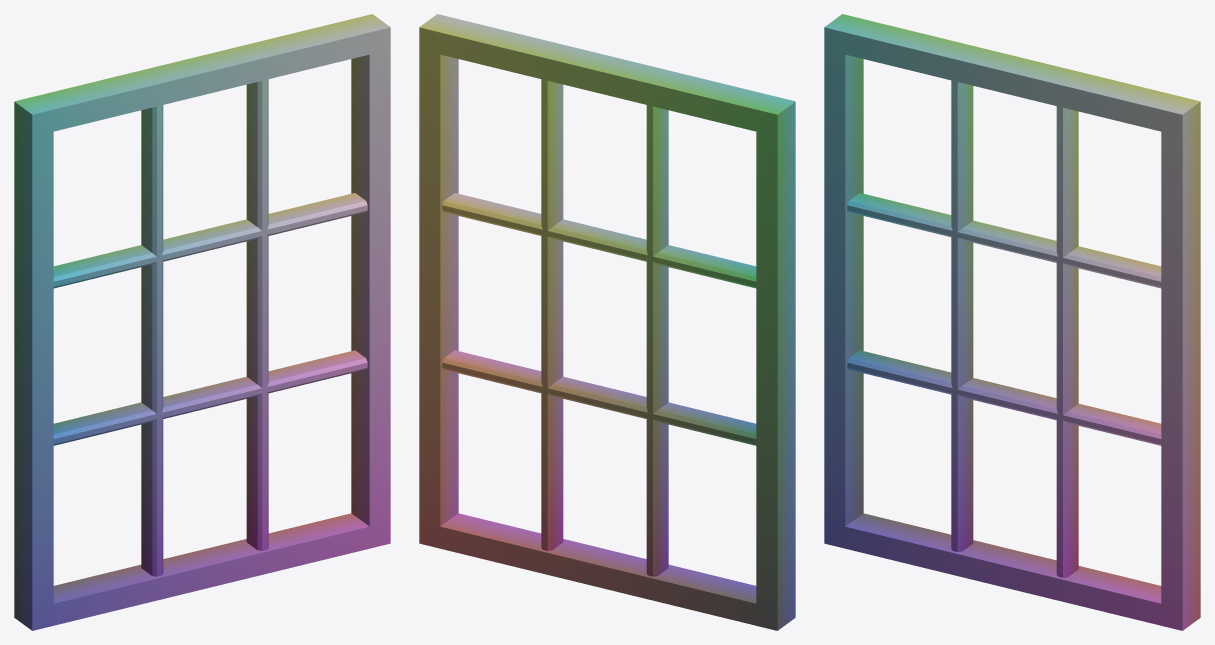
File: koshidaka_PREBAKE.glb
3 renders of one model, left to right at view 1: azimuth 30°, elevation 25°; view 2: azimuth 150°, elevation 25°; view 3: azimuth 330°, elevation 25°, orthographic.
Size of the model in its own units: 1.06 by 1.46 by 0.0938.
